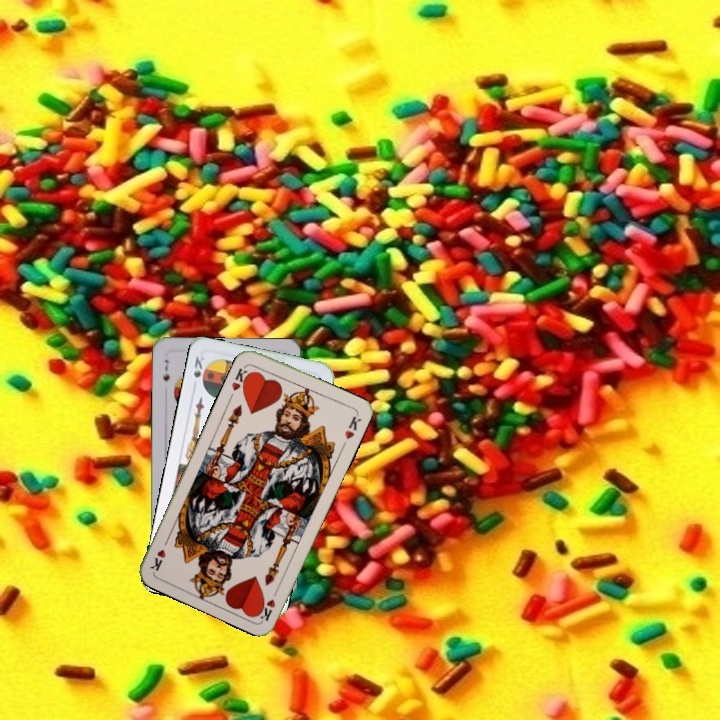HK: (254, 583, 282, 623), (228, 361, 254, 394)
S7: (159, 356, 172, 384)
SK: (189, 352, 207, 380)
